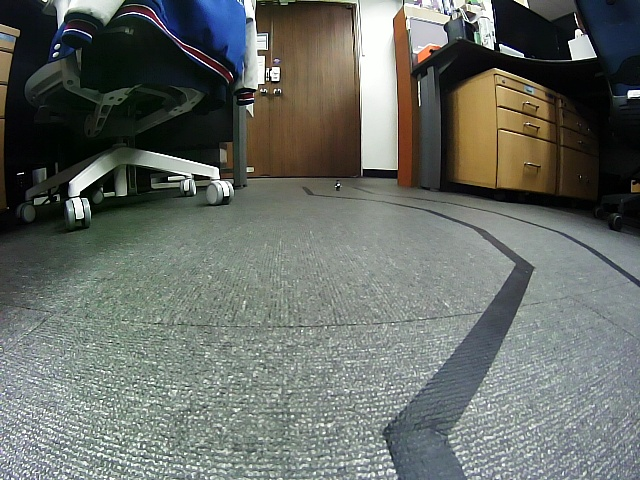person: (334, 180, 342, 193)
